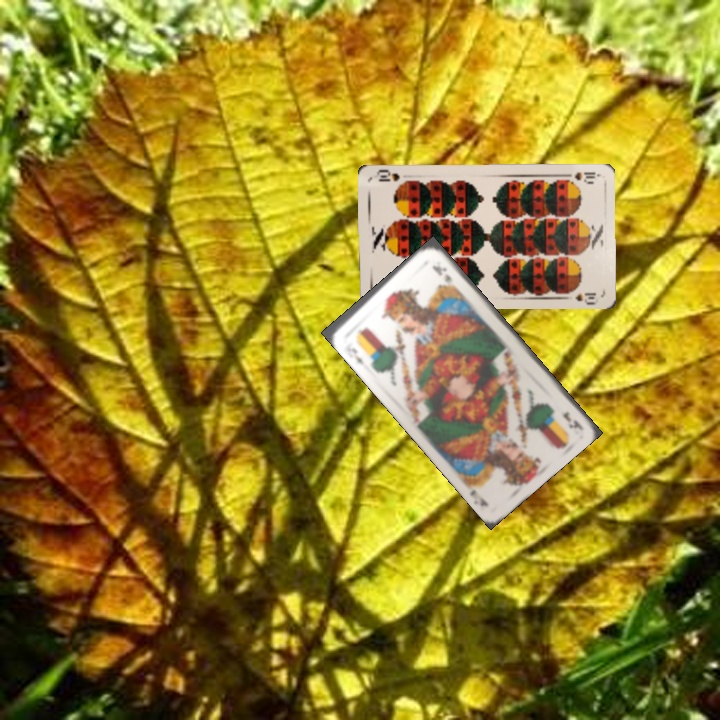EK: (343, 338, 368, 369), (558, 407, 583, 431)
S10: (560, 168, 600, 185)
